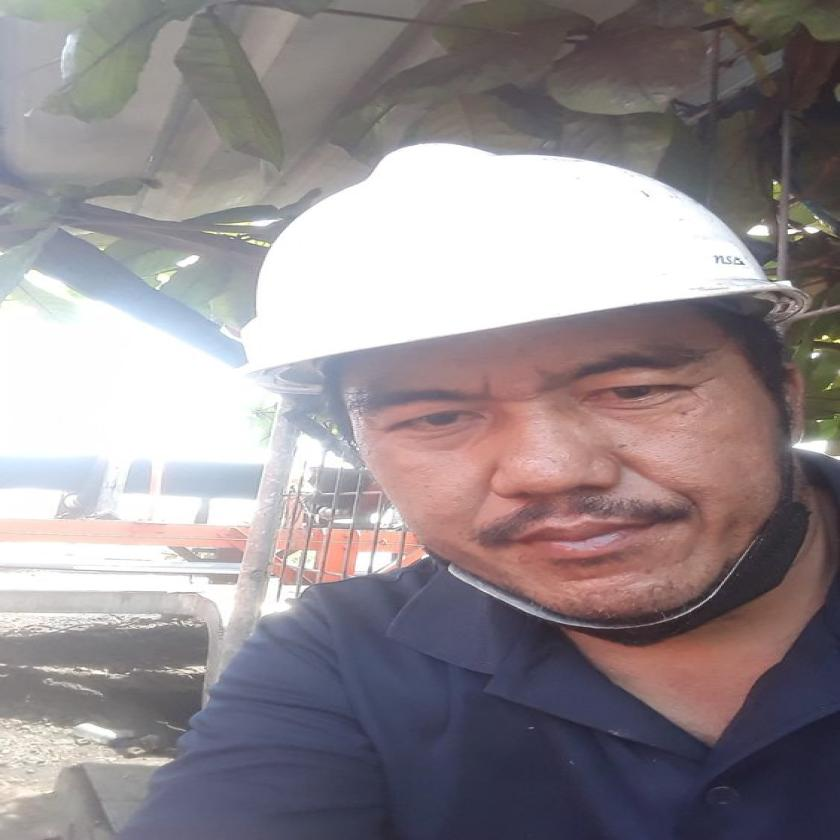Con_casco: (219, 135, 800, 641)
